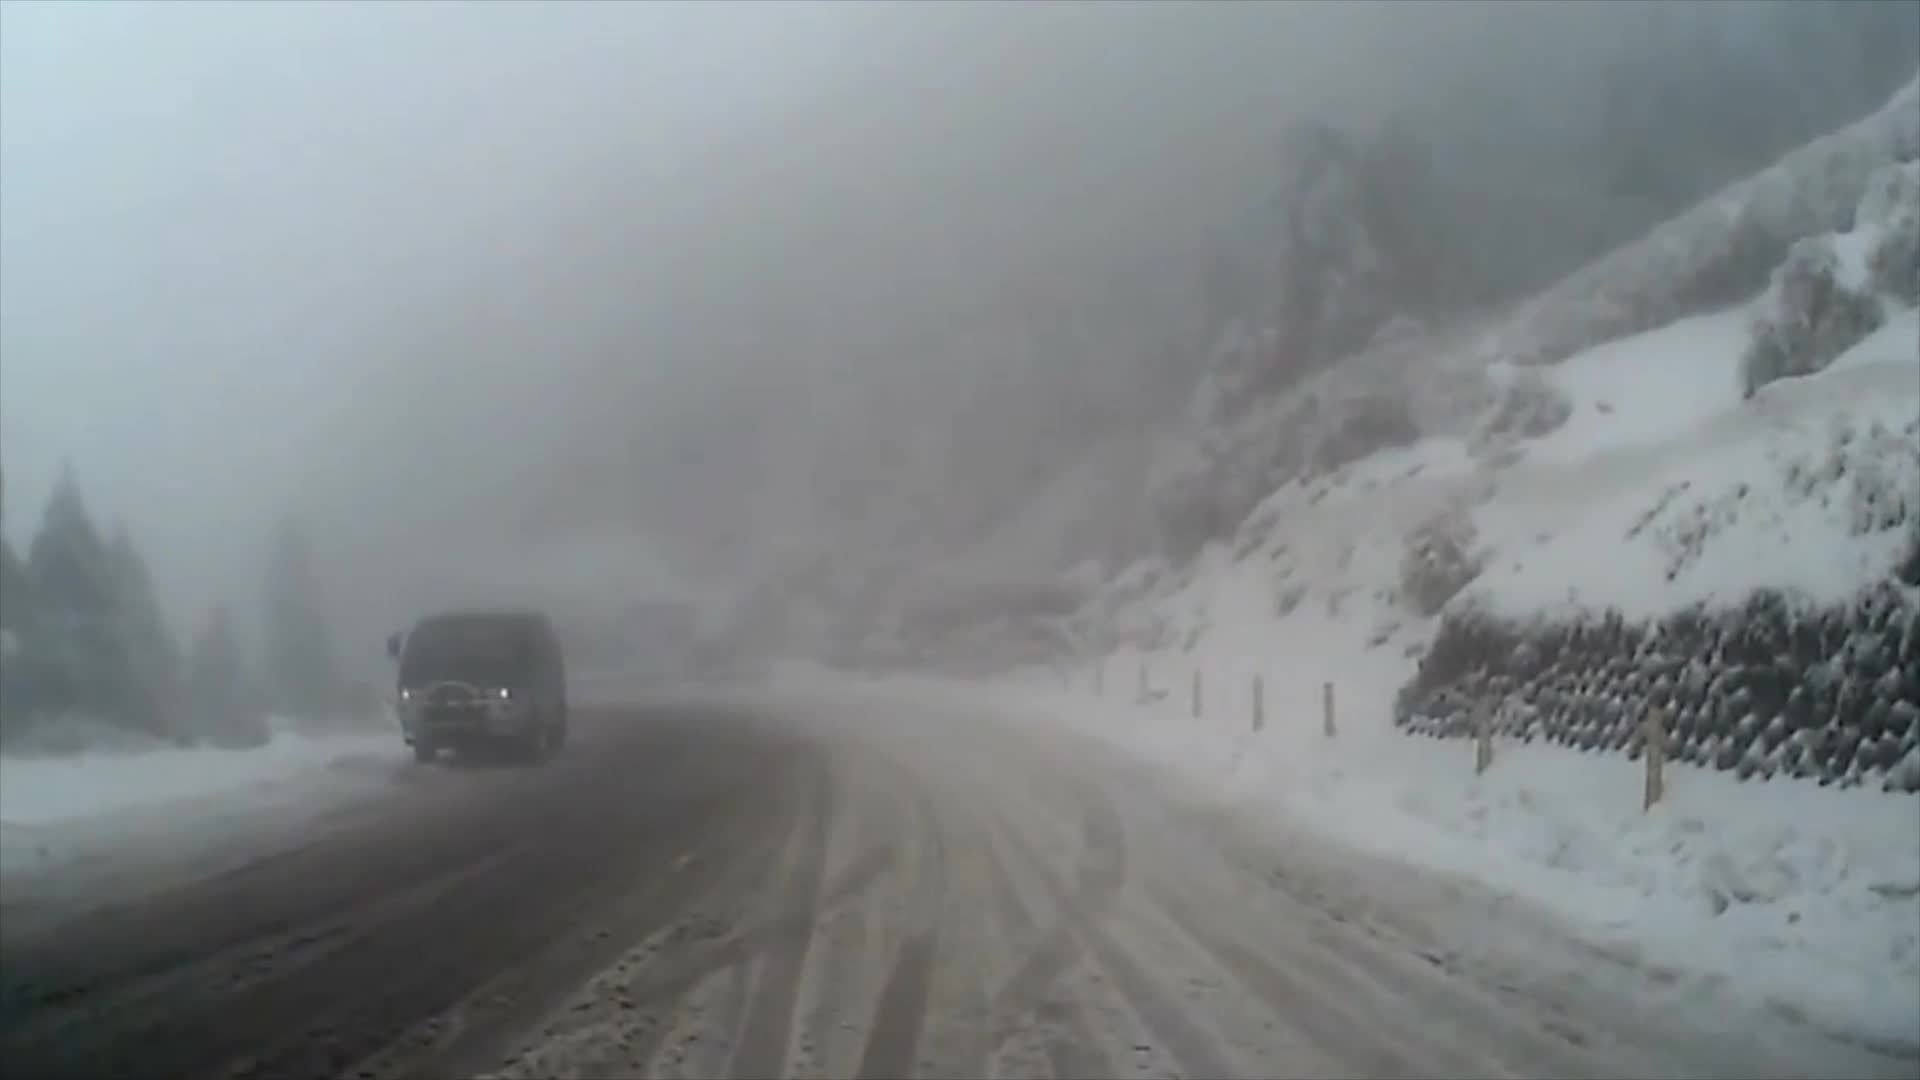vehicle: (382, 605, 568, 761)
